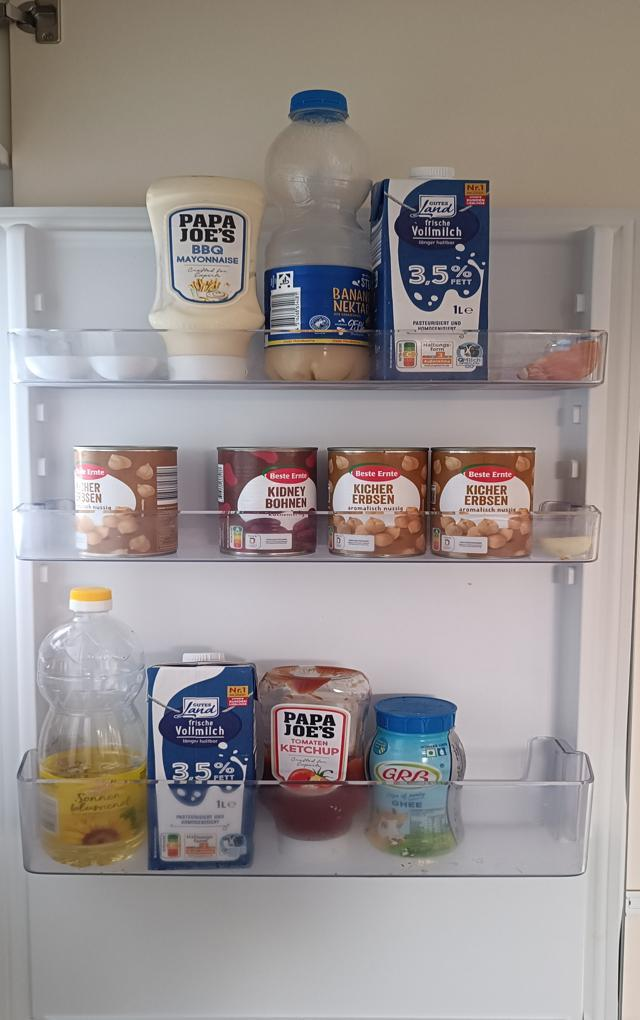bananajuice: (264, 88, 377, 387)
chickpeas: (73, 445, 179, 559), (435, 448, 535, 561), (331, 448, 426, 558)
ghee: (368, 695, 464, 861)
kidneybeans: (215, 445, 319, 557)
mayoniasie: (144, 171, 264, 382)
milk: (377, 164, 497, 386), (148, 652, 261, 871)
oil: (38, 588, 148, 868)
tomatoketchup: (260, 665, 371, 865)
